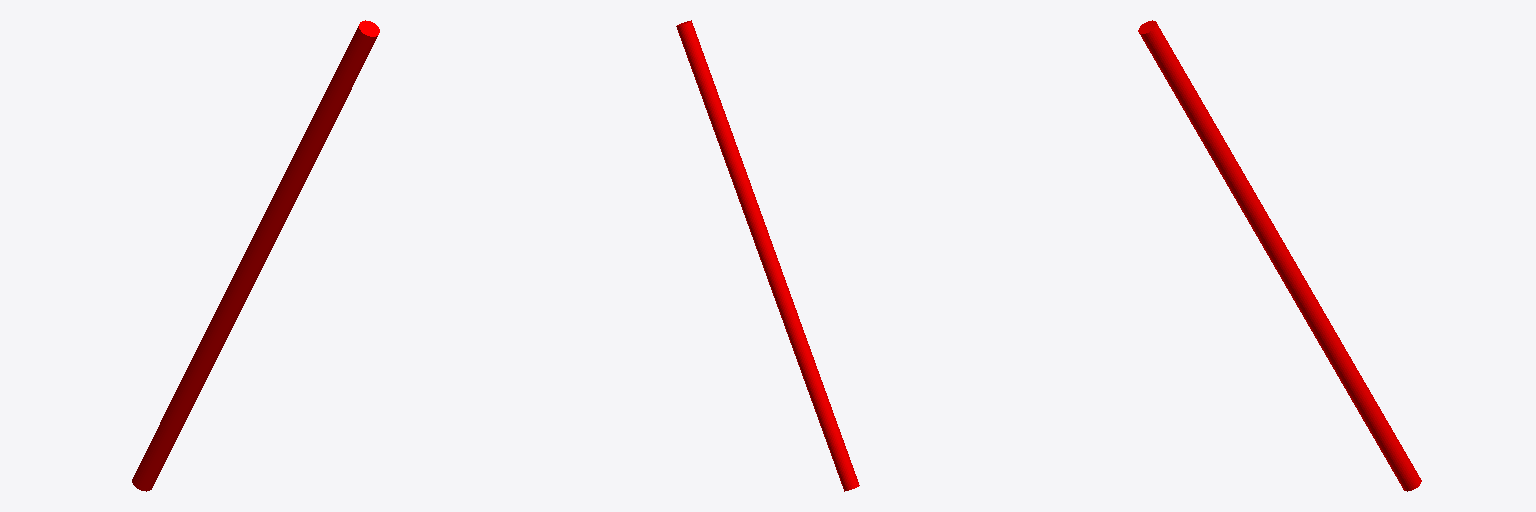
robot.urdf — tree_39.urdf:
<?xml version='1.0' encoding='utf-8'?>
<robot name="tree_39.urdf">
  <link name="branch_0">
    <inertial>
      <origin xyz="0.0 0.0 0.0" rpy="0.0 -0.0 0.0" />
      <mass value="1.0" />
      <inertia ixx="1.0" ixy="0.0" ixz="0.0" iyy="1.0" iyz="0.0" izz="1.0" />
    </inertial>
    <visual name="branch_0_visual">
      <geometry>
        <cylinder radius="0.06317438102741368" length="3.7886766813928396" />
      </geometry>
      <material name="semantic_material" />
      <origin xyz="0.2666554470743439 -0.820024639678248 1.686704541968926" rpy="0.0 0.4725897390797686 -1.256401814735747" />
    </visual>
    <collision name="branch_0_collision">
      <geometry>
        <cylinder radius="0.06317438102741368" length="3.7886766813928396" />
      </geometry>
      <origin xyz="0.2666554470743439 -0.820024639678248 1.686704541968926" rpy="0.0 0.4725897390797686 -1.256401814735747" />
    </collision>
  </link>
  <material name="semantic_material">
    <color rgba="1. 0. 0. 1." />
  </material>
</robot>

--- Render facts (derived) ---
3 views of the same robot in one strip: view 1: azimuth 30°, elevation 25°; view 2: azimuth 210°, elevation 25°; view 3: azimuth 270°, elevation 25° (orthographic).
Model tree_39.urdf with 1 links and 0 joints (none), rooted at branch_0, posed every joint at zero.
Links seen in each view (by area): view 1: branch_0; view 2: branch_0; view 3: branch_0.
Link boxes in pixels (x1,y1,x2,y2): branch_0: (132, 20, 379, 491); branch_0: (676, 20, 859, 491); branch_0: (1138, 20, 1421, 491).
Size in the robot's own frame: 0.6579 by 1.75 by 3.43 metres.
Geometry: primitives only (box / cylinder / sphere), no mesh files.